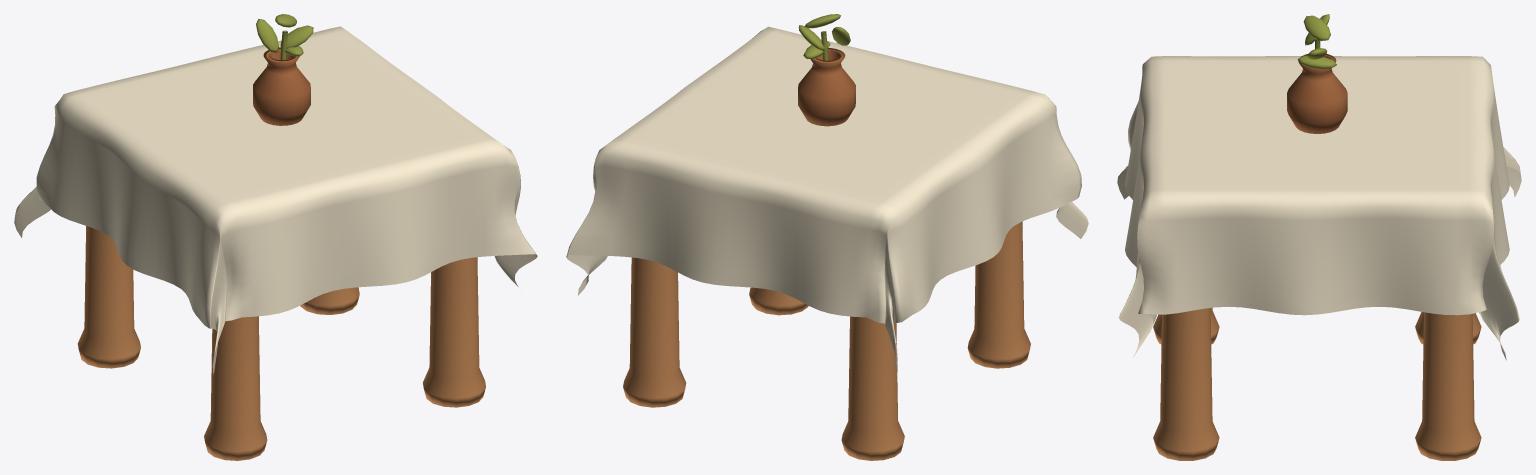
The model's file is PROP_TABLE.glb.
The picture shows the model from 3 angles, left to right: view 1: azimuth 30°, elevation 25°; view 2: azimuth 150°, elevation 25°; view 3: azimuth 270°, elevation 25°; orthographic projection. The views are drawn at different scales.
Visible parts, largest first — view 1: cloth, legs, vase, sprig; view 2: cloth, legs, vase, sprig; view 3: cloth, legs, vase, sprig.
Boxes of the visible parts, x1=… form: cloth: x1=14, y1=26, x2=537, y2=374; legs: x1=77, y1=226, x2=485, y2=460; vase: x1=253, y1=47, x2=310, y2=125; sprig: x1=256, y1=14, x2=313, y2=59; cloth: x1=566, y1=26, x2=1088, y2=375; legs: x1=623, y1=221, x2=1030, y2=460; vase: x1=798, y1=48, x2=855, y2=126; sprig: x1=798, y1=14, x2=850, y2=60; cloth: x1=1117, y1=56, x2=1521, y2=360; legs: x1=1153, y1=307, x2=1481, y2=460; vase: x1=1287, y1=54, x2=1347, y2=133; sprig: x1=1297, y1=14, x2=1336, y2=68.
Bounding box in the file's own units: 3.95 × 4.1 × 4.01.
